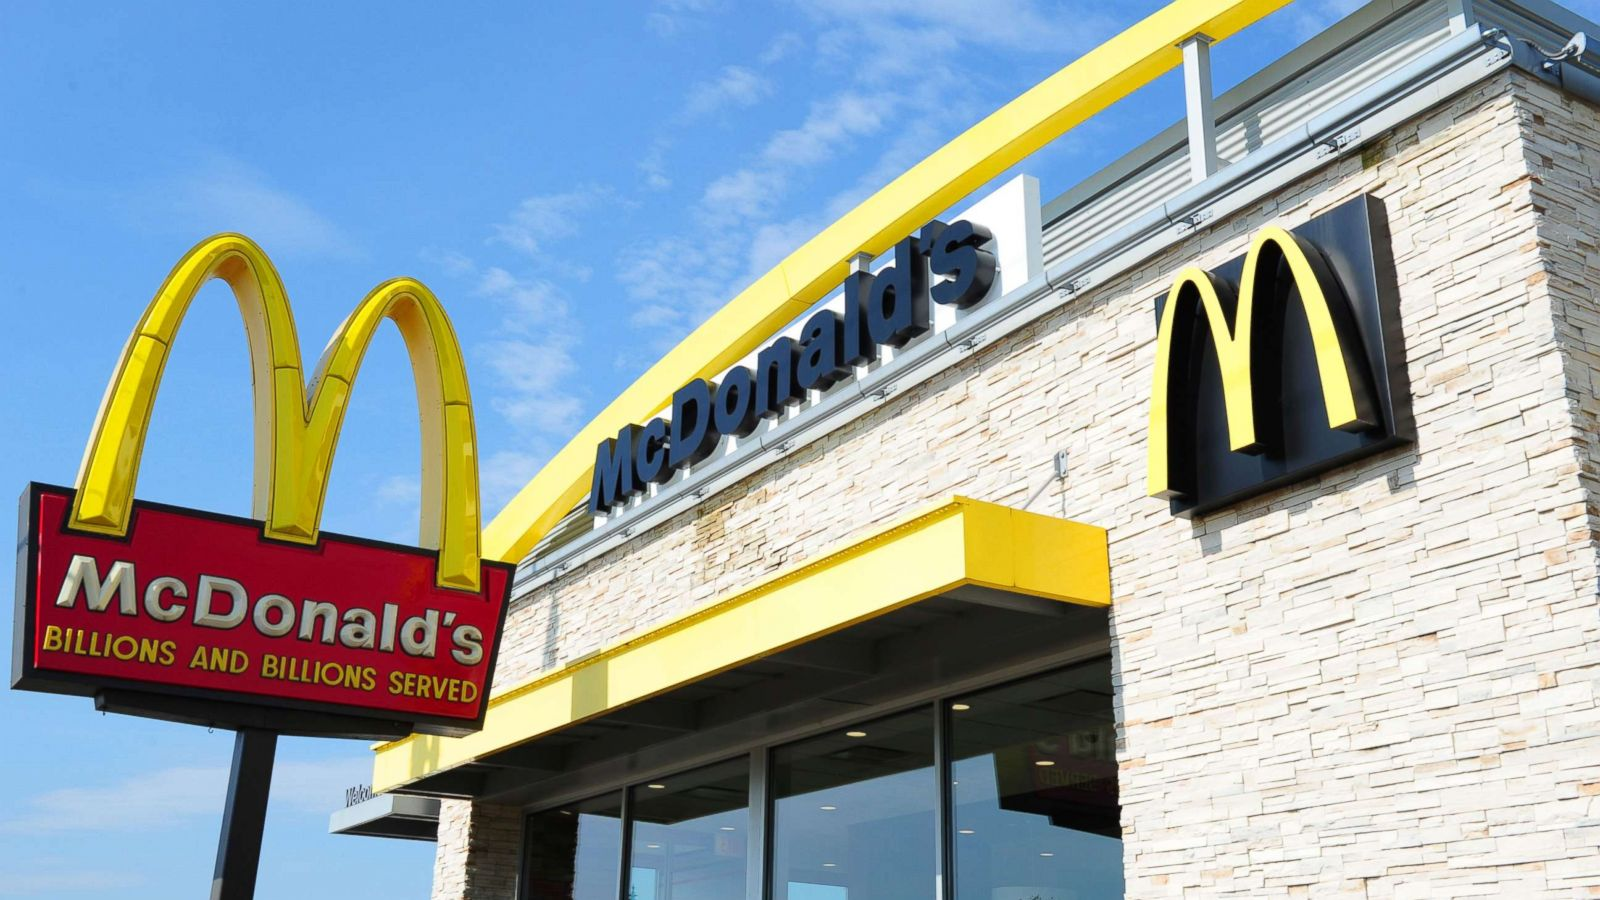mcdonalds: (67, 227, 480, 596), (1144, 227, 1367, 499)
